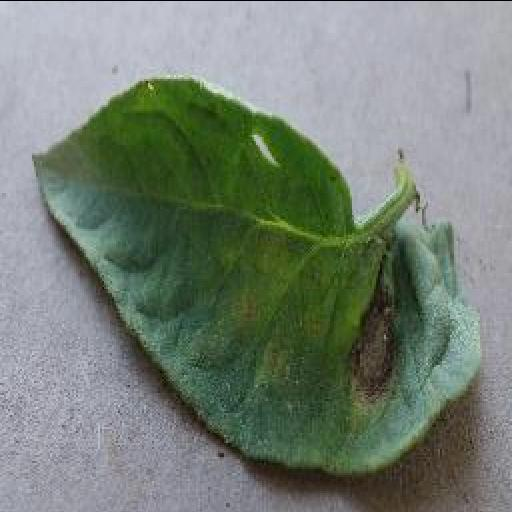disease_tomato: (31, 78, 481, 476)
